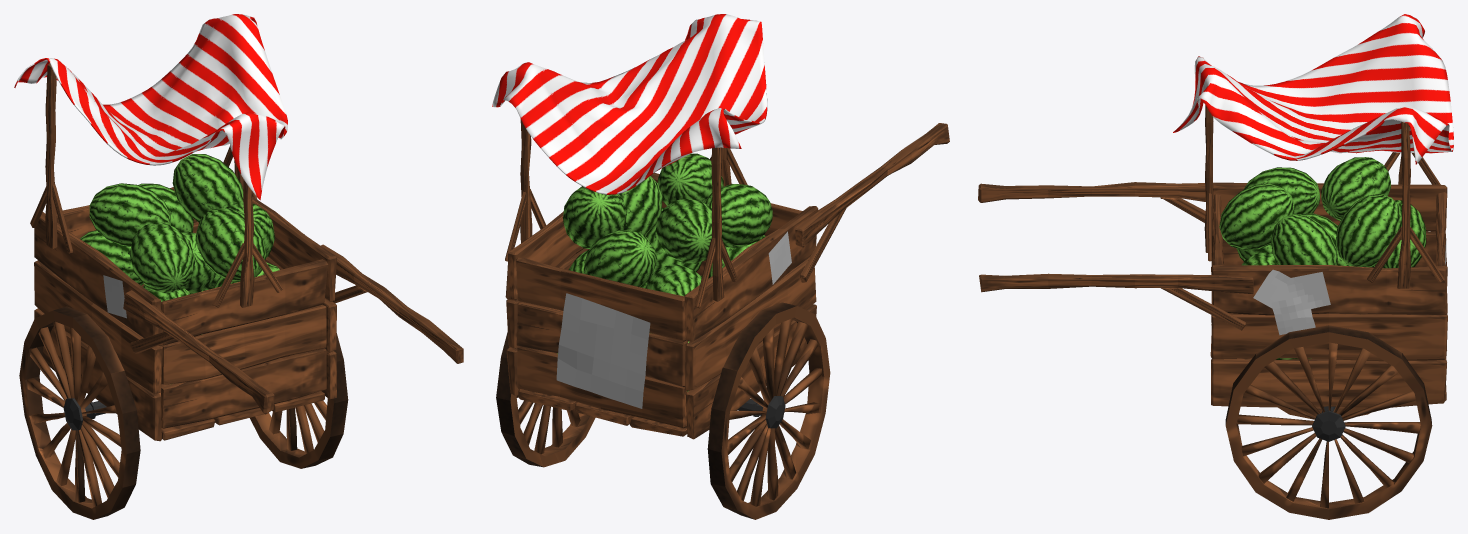
The model's file is Melon Cart.fbx.
The picture shows the model from 3 angles, left to right: view 1: azimuth 30°, elevation 25°; view 2: azimuth 150°, elevation 25°; view 3: azimuth 270°, elevation 25°; orthographic projection. The views are drawn at different scales.
Visible parts, largest first — view 1: Cart, Wheels, cloth, MELON.010, MELON.014, MELON.013, MELON.015, MELON.008, MELON.011, MELON.009, MELON.012, melon sticker.004 (+1 smaller); view 2: Cart, cloth, Wheels, melon sticker, MELON.011, MELON.014, MELON.010, MELON.013, MELON.015, MELON.012, MELON.008, melon sticker.004 (+2 smaller); view 3: Cart, cloth, Wheels, MELON.013, MELON.015, MELON.014, MELON.012, MELON.010, melon sticker.003, melon sticker.002, MELON.011, melon sticker.001 (+1 smaller).
Boxes of the visible parts, <box> form: Cart: <box>30,63,463,441</box>; Wheels: <box>19,306,348,519</box>; cloth: <box>14,14,287,200</box>; MELON.010: <box>129,222,194,292</box>; MELON.014: <box>89,183,170,246</box>; MELON.013: <box>172,154,243,222</box>; MELON.015: <box>196,208,266,282</box>; MELON.008: <box>80,230,143,285</box>; MELON.011: <box>138,183,193,232</box>; MELON.009: <box>182,231,215,293</box>; MELON.012: <box>225,202,274,258</box>; melon sticker.004: <box>103,275,126,318</box>; Cart: <box>505,119,949,439</box>; cloth: <box>492,14,767,194</box>; Wheels: <box>496,302,830,519</box>; melon sticker: <box>556,293,650,408</box>; MELON.011: <box>583,230,656,287</box>; MELON.014: <box>656,198,722,263</box>; MELON.010: <box>703,184,772,247</box>; MELON.013: <box>563,186,626,248</box>; MELON.015: <box>658,153,723,205</box>; MELON.012: <box>619,176,662,234</box>; MELON.008: <box>645,264,701,296</box>; melon sticker.004: <box>768,231,791,284</box>; Cart: <box>978,105,1447,407</box>; cloth: <box>1173,14,1453,164</box>; Wheels: <box>1225,325,1432,519</box>; MELON.013: <box>1335,194,1401,267</box>; MELON.015: <box>1219,183,1295,250</box>; MELON.014: <box>1321,157,1390,221</box>; MELON.012: <box>1271,213,1338,265</box>; MELON.010: <box>1243,167,1319,214</box>; melon sticker.003: <box>1271,294,1315,335</box>; melon sticker.002: <box>1286,272,1330,308</box>; MELON.011: <box>1373,200,1426,268</box>; melon sticker.001: <box>1253,269,1297,308</box>.
Size of the model in its own units: 291 by 478 by 505.
